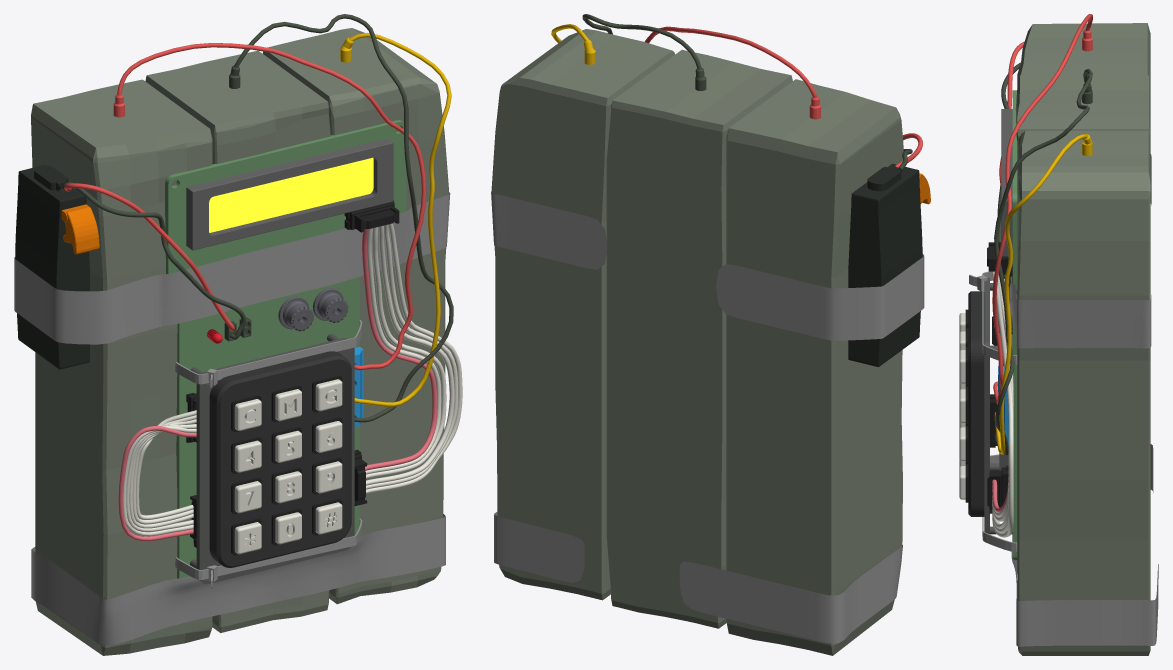
Rendered from bomba_4.glb.
The picture shows the model from 3 angles, left to right: view 1: azimuth 30°, elevation 25°; view 2: azimuth 150°, elevation 25°; view 3: azimuth 270°, elevation 25°; orthographic projection. The views are drawn at different scales.
Visible parts, largest first — view 1: Object_10, Object_9, Object_4, Object_7, Object_22, Object_18, Object_2, Object_3, Object_17, Object_15, Object_16, Object_12 (+9 smaller); view 2: Object_10, Object_9, Object_18, Object_12, Object_15; view 3: Object_10, Object_9, Object_7, Object_12, Object_15, Object_17, Object_22, Object_4, Object_11, Object_16, Object_2, Object_25 (+2 smaller).
Part boxes in pixels (x1,y1,x2,y2): Object_10: (31, 28, 448, 655); Object_9: (14, 192, 450, 644); Object_4: (165, 120, 406, 578); Object_7: (209, 351, 351, 567); Object_22: (234, 223, 462, 493); Object_18: (15, 164, 89, 369); Object_2: (186, 138, 393, 250); Object_3: (209, 157, 373, 232); Object_17: (58, 185, 399, 555); Object_15: (60, 14, 453, 422); Object_16: (190, 334, 354, 584); Object_12: (64, 43, 426, 370); Object_10: (491, 29, 903, 655); Object_9: (491, 191, 924, 643); Object_18: (848, 163, 922, 366); Object_12: (644, 26, 922, 167); Object_15: (582, 14, 912, 170); Object_10: (1015, 23, 1150, 655); Object_9: (1011, 154, 1158, 646); Object_7: (968, 291, 984, 516); Object_12: (992, 14, 1092, 404); Object_15: (994, 62, 1092, 455); Object_17: (965, 242, 1012, 513); Object_22: (959, 271, 1013, 537); Object_4: (1012, 90, 1017, 560); Object_11: (994, 134, 1092, 454); Object_16: (984, 278, 1012, 534); Object_2: (1001, 109, 1012, 256); Object_25: (969, 271, 1017, 551).
Size of the model in its own units: 3.31 by 4.61 by 1.56.
